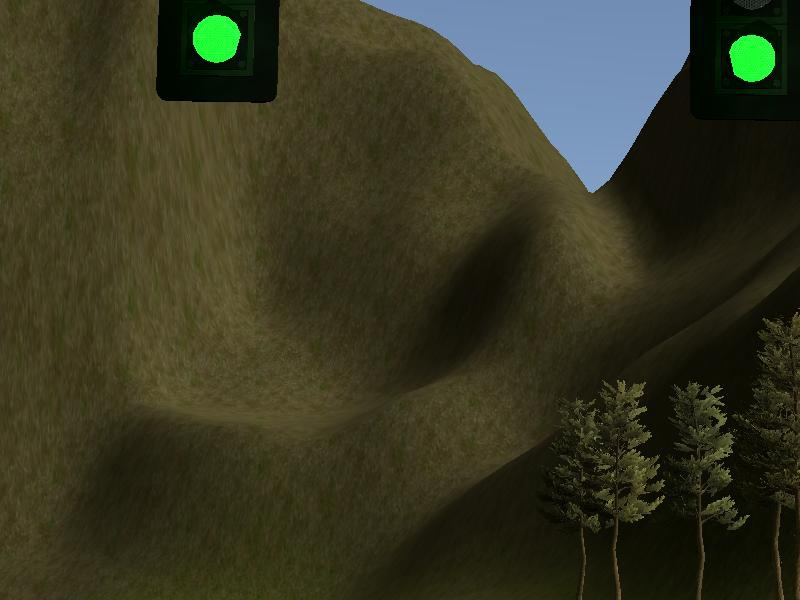Green: (149, 1, 283, 105), (690, 1, 800, 126)
